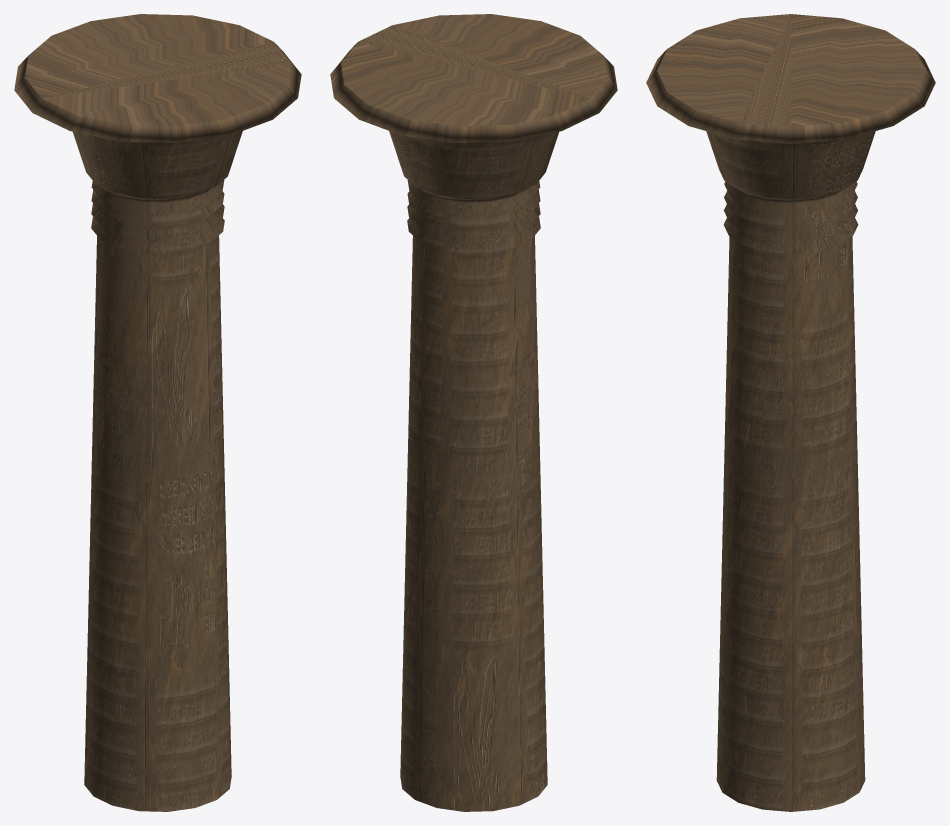
File: PM_Pillar02Catacombs.fbx
3 renders of one model, left to right at view 1: azimuth 30°, elevation 25°; view 2: azimuth 150°, elevation 25°; view 3: azimuth 270°, elevation 25°, orthographic.
Parts seen in each view (by area): view 1: Modl_Piller_Type_2; view 2: Modl_Piller_Type_2; view 3: Modl_Piller_Type_2.
Part boxes in pixels (x1=…): Modl_Piller_Type_2: x1=14, y1=14, x2=301, y2=811; Modl_Piller_Type_2: x1=330, y1=14, x2=617, y2=811; Modl_Piller_Type_2: x1=646, y1=14, x2=935, y2=811.
Bounding box in the file's own units: 385 × 1042 × 385.
